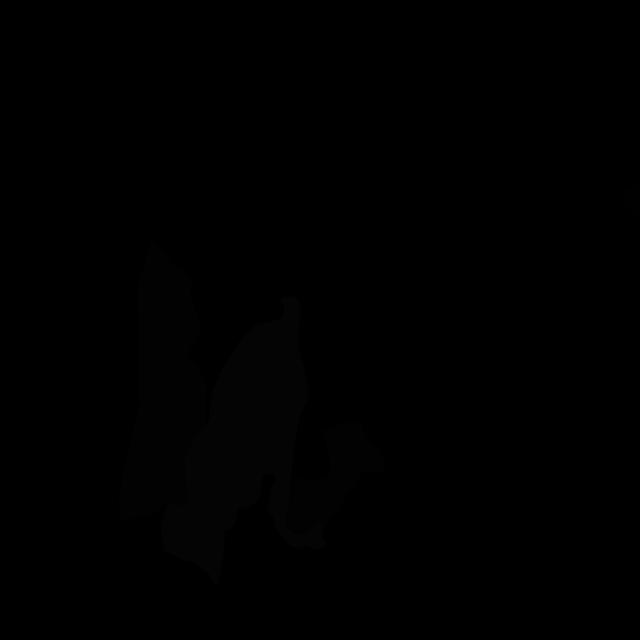cardboard: (118, 239, 207, 519), (285, 422, 385, 533)
rigid_plastic: (616, 181, 640, 225)
soft_plastic: (161, 295, 326, 585)
